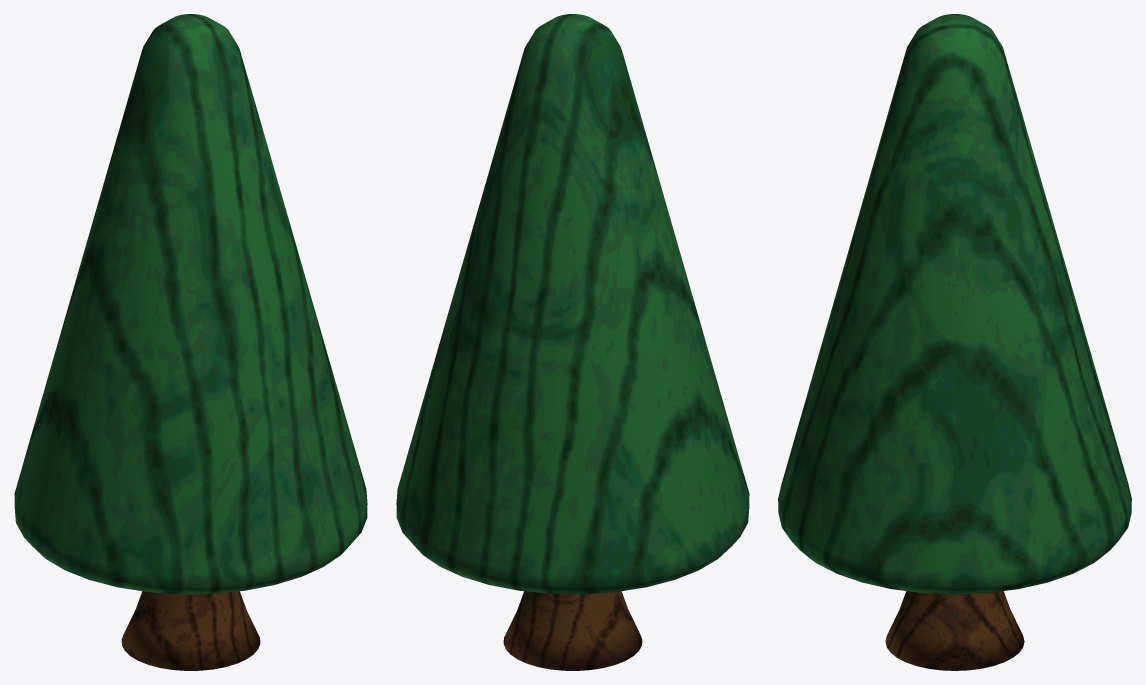
File: tree1Posterized.glb
3 views of the same model, side by side, from view 1: azimuth 30°, elevation 25°; view 2: azimuth 150°, elevation 25°; view 3: azimuth 270°, elevation 25° (orthographic).
Parts seen in each view (by area): view 1: WoodTree1.001, WoodTree1_bark.001; view 2: WoodTree1.001, WoodTree1_bark.001; view 3: WoodTree1.001, WoodTree1_bark.001.
Boxes of the visible parts, <box> form: WoodTree1.001: <box>14,14,367,594</box>; WoodTree1_bark.001: <box>121,591,260,670</box>; WoodTree1.001: <box>396,14,749,594</box>; WoodTree1_bark.001: <box>503,591,642,670</box>; WoodTree1.001: <box>778,14,1131,594</box>; WoodTree1_bark.001: <box>885,591,1024,670</box>.
Size of the model in its own units: 3.75 by 7.29 by 3.75.
2 materials, 2 textured.
